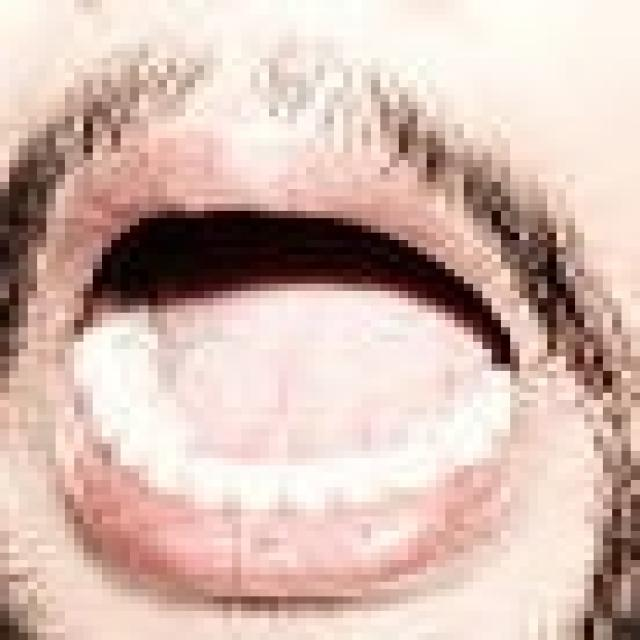open-mouth: (0, 15, 631, 632)
